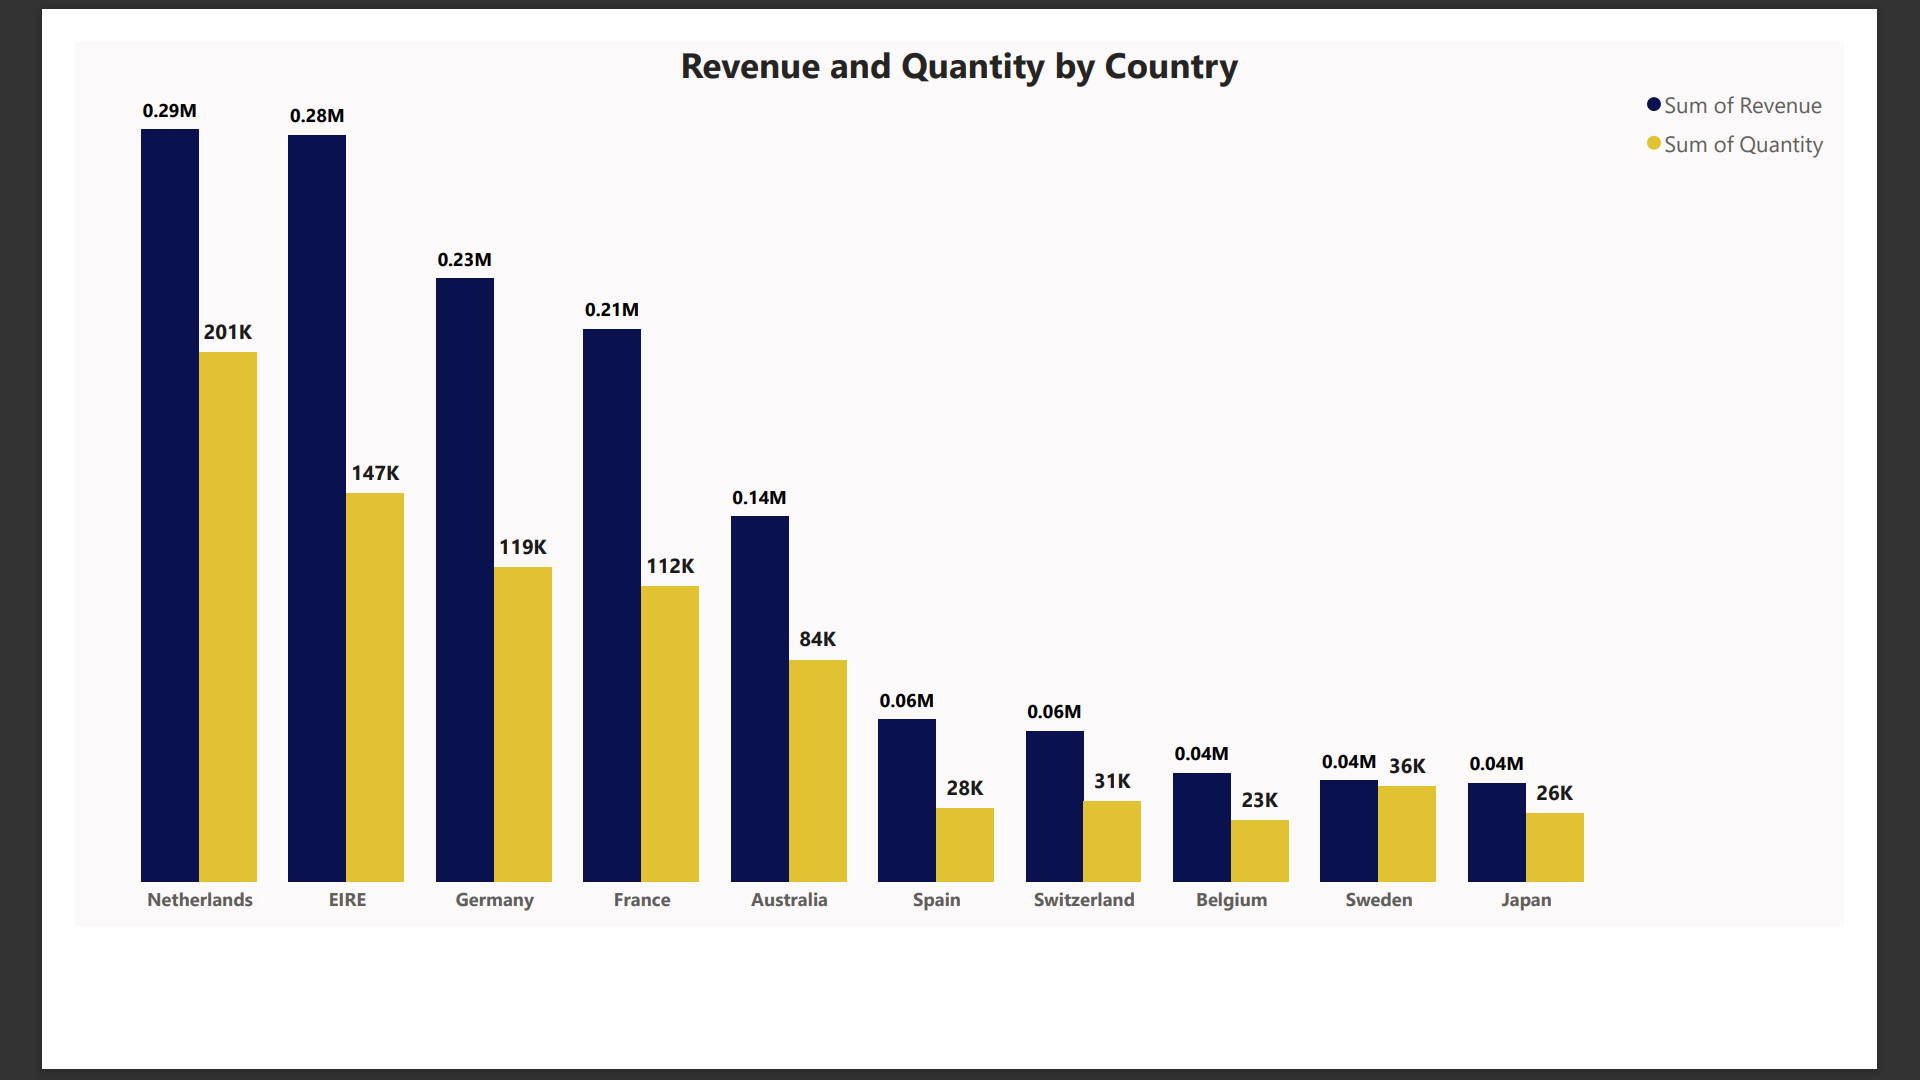

What the dashboard file says about the page in this screenshot:
{"tool":"powerbi","page":{"name":"Question2","canvas":[1280,720],"ordinal":1},"visuals":[{"type":"clusteredColumnChart","title":"Revenue and Quantity by Country","fields":{"Category":["Online Retail.Country"],"Y":["Sum(Online Retail.Total Revenue)","Sum(Online Retail.Quantity)"]},"box":[0,0,1280.3,640.8],"z":0}]}

Visuals, with their boxes in screenshot pixels (x1, y1, x2, y2), scaled from the page's 1280x720 canvas onto the 1920x1080 screenshot:
"Revenue and Quantity by Country" clusteredColumnChart: rect(0, 0, 1919, 961)
